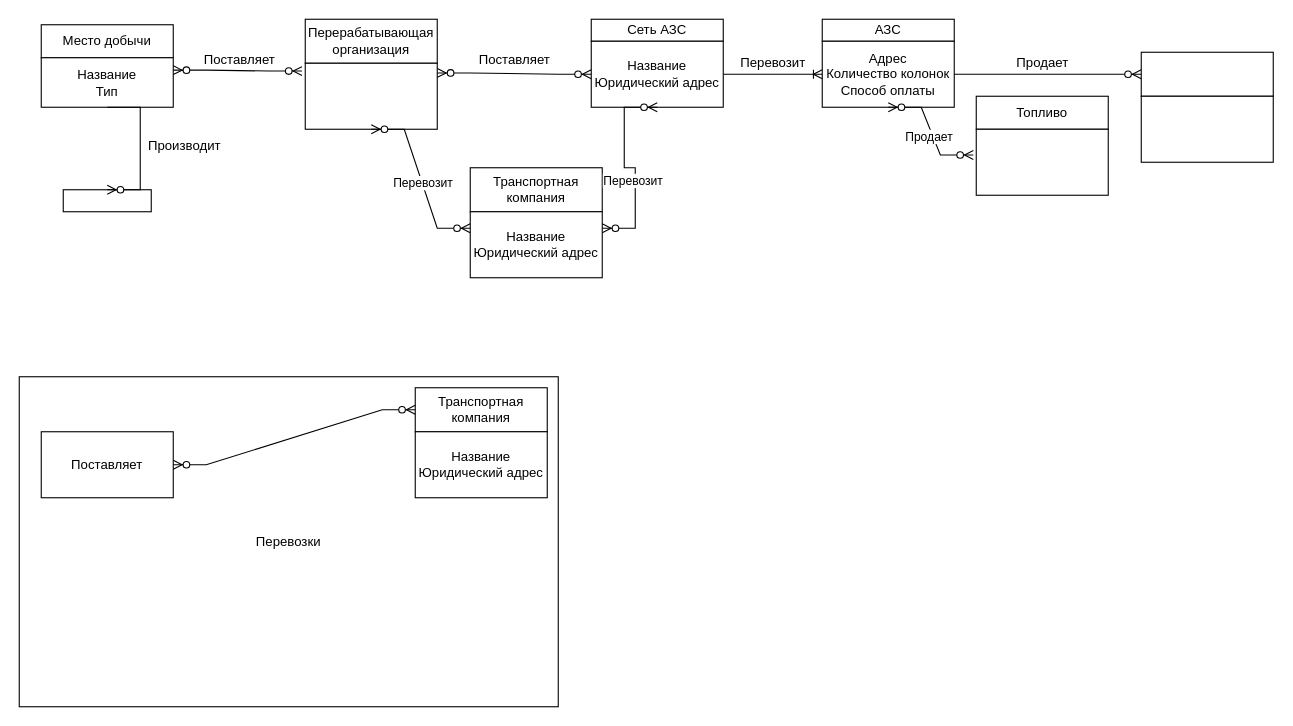
Some shapes in this 1293 by 726 pixel diagram are drawn without their labels. The shapes that lost their labels are listed below. From the top down, each one's centre as x and y in pixels, then its label:
At point 1206,73: "Клиент".
At point 370,95: "Название Юридический адрес Объем переработки за период времени".
At point 1206,128: "Розничный Оптовый".
At point 1041,161: "Вид Октановое число Цена за единицу объема".
At point 106,200: "Сырье".
